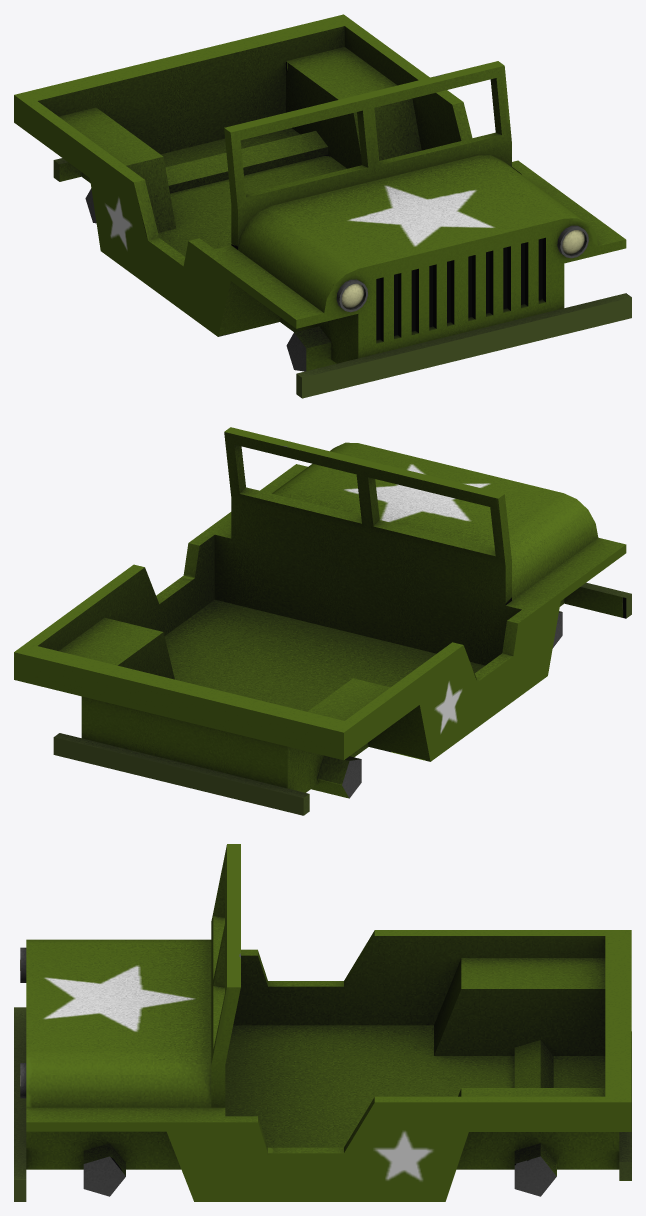
File: JeepBody.fbx
3 renders of one model, top to bottom at view 1: azimuth 30°, elevation 25°; view 2: azimuth 150°, elevation 25°; view 3: azimuth 270°, elevation 25°, orthographic. The views are drawn at different scales.
Visible parts, largest first — view 1: Jeep; view 2: Jeep; view 3: Jeep.
Boxes of the visible parts, x1=… form: Jeep: x1=14, y1=14, x2=631, y2=398; Jeep: x1=14, y1=427, x2=631, y2=815; Jeep: x1=14, y1=844, x2=631, y2=1201.
Bounding box in the file's own units: 221 × 128 × 334.
